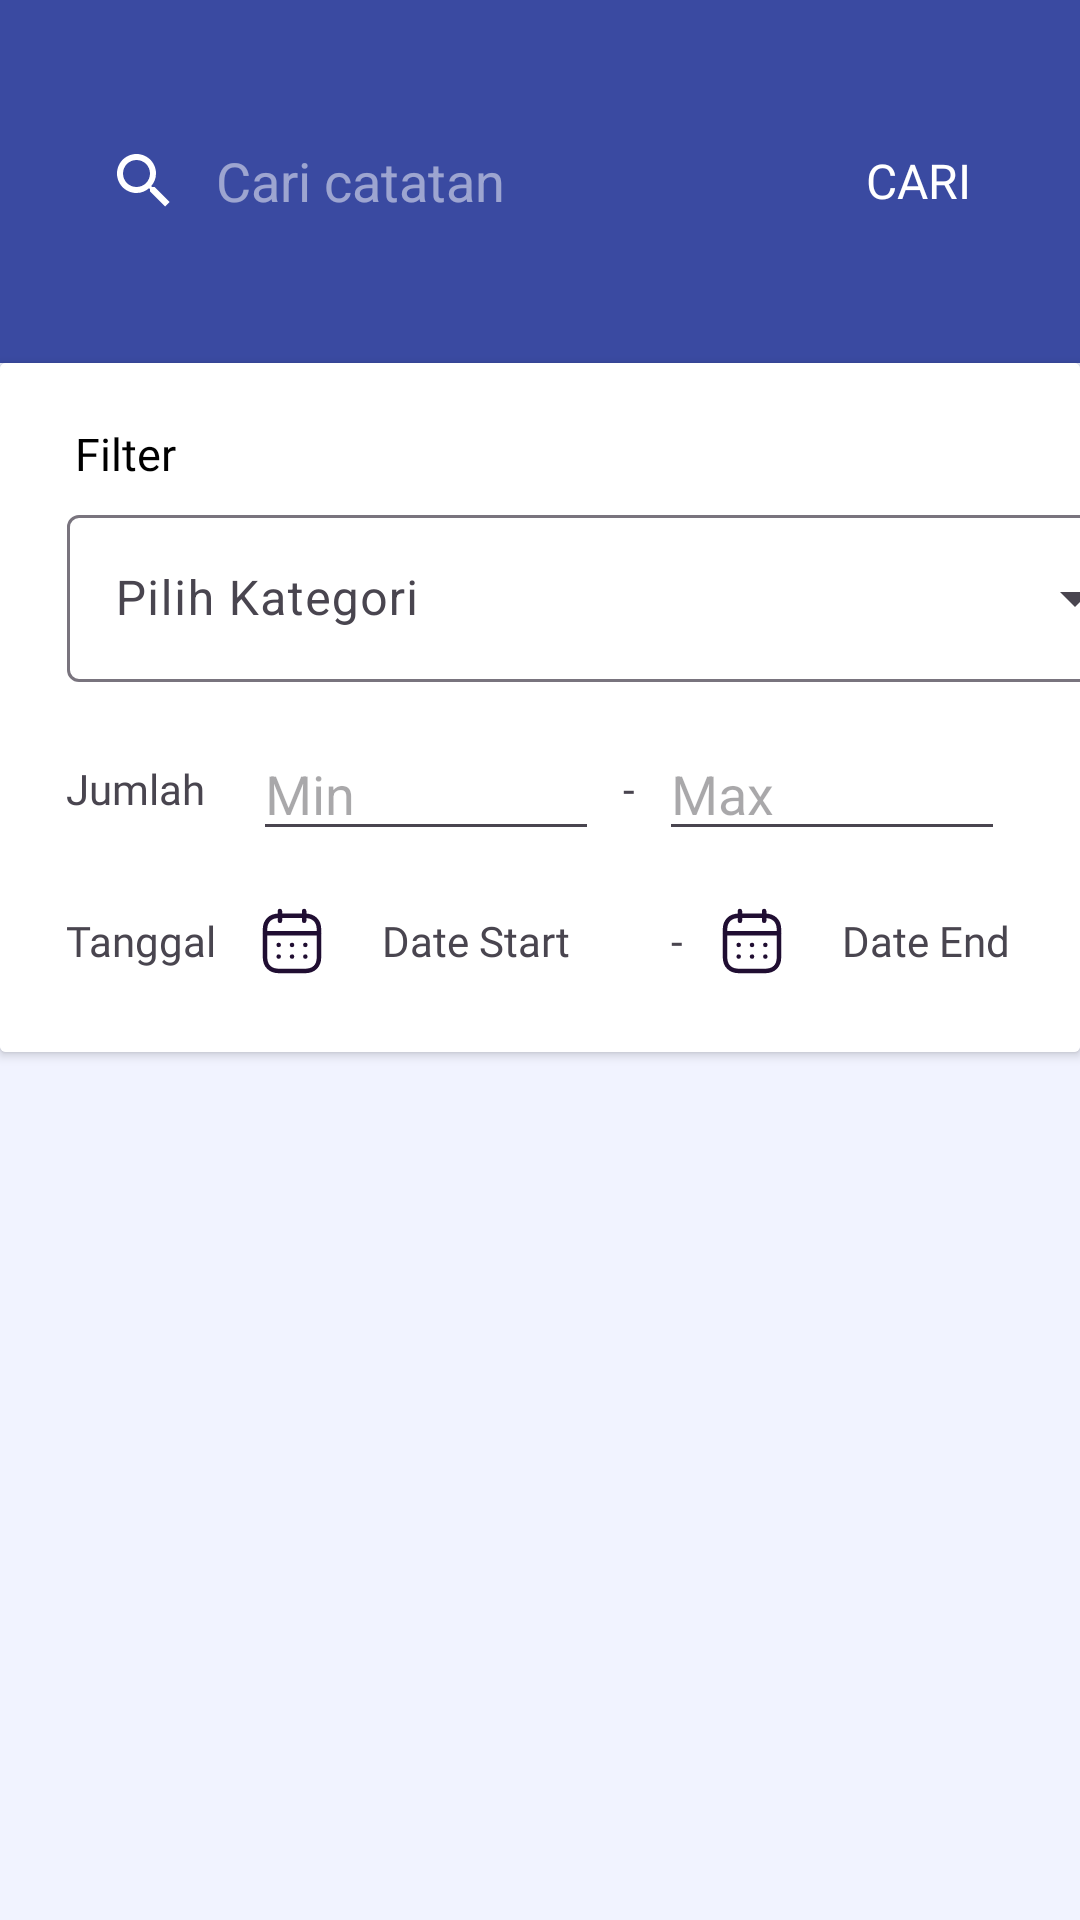

Named icons in this screenshot (1080×1920) and their centers, (x,y):
calendar: (292,941), (752,941)
